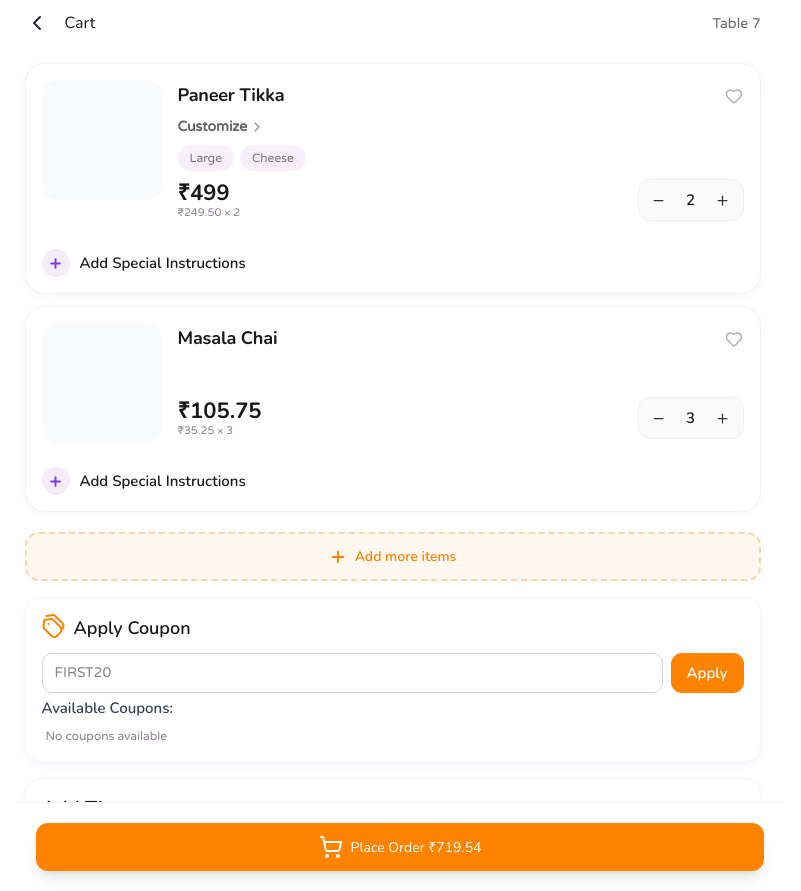
Cart — coupon › rejection "Minimum order value of ₹1000 required" is shown inline as {} and no discount is applied
Type "X" into the field named "Coupon code" at (352, 673), box [42,653,662,693]
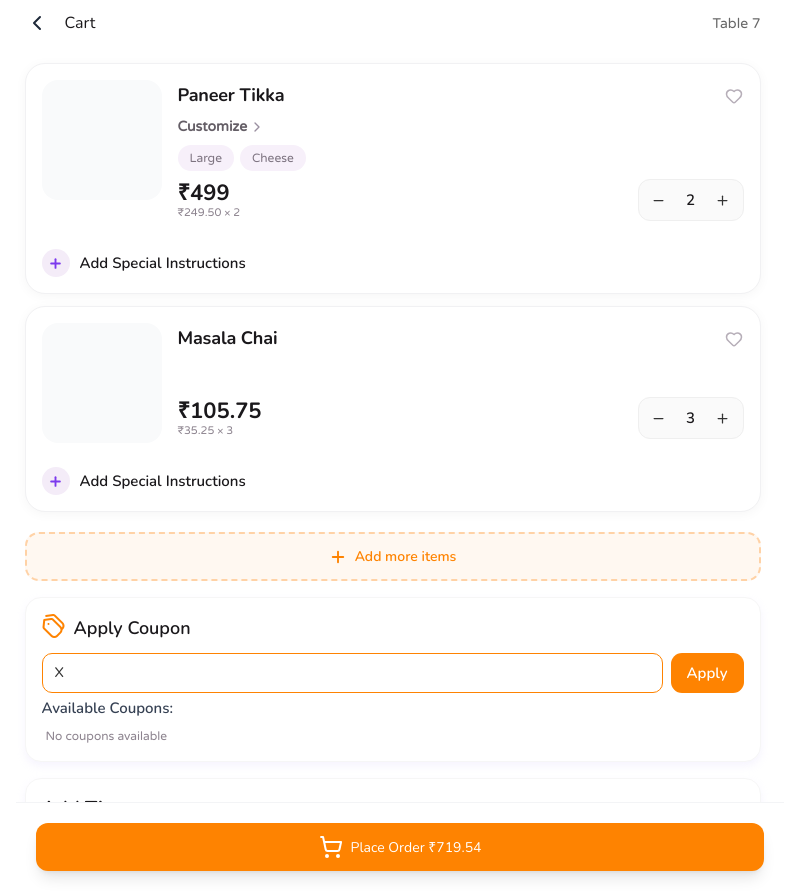
Click the button "Apply" at (707, 673), box [670,653,744,693]
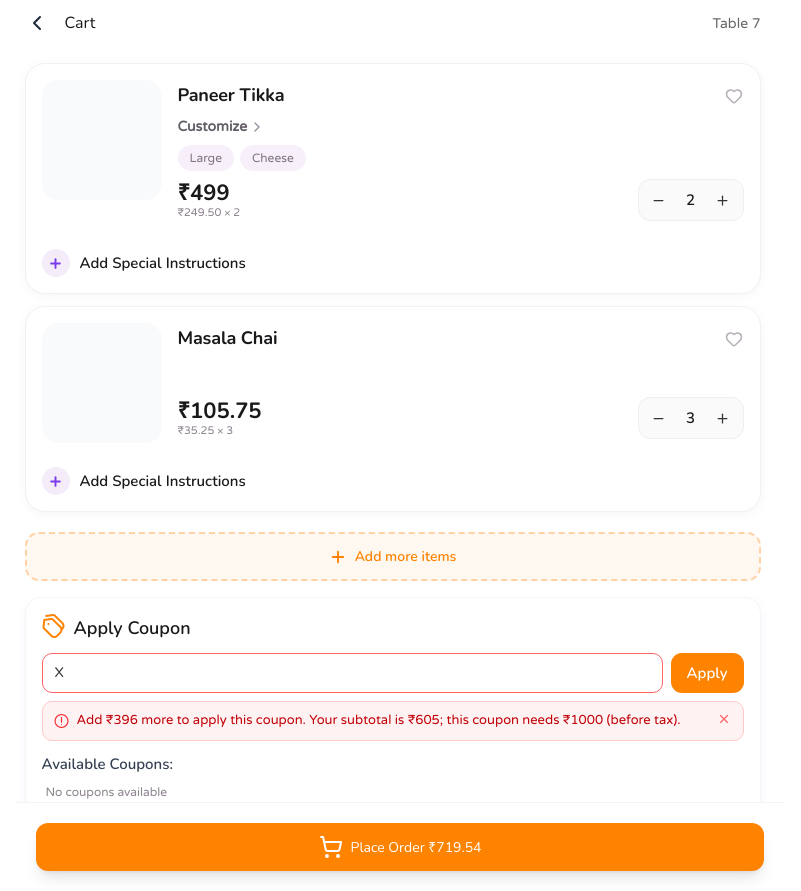
Expected: the message shows "Add ₹396 more to apply this coupon", [76,712,681,728]
